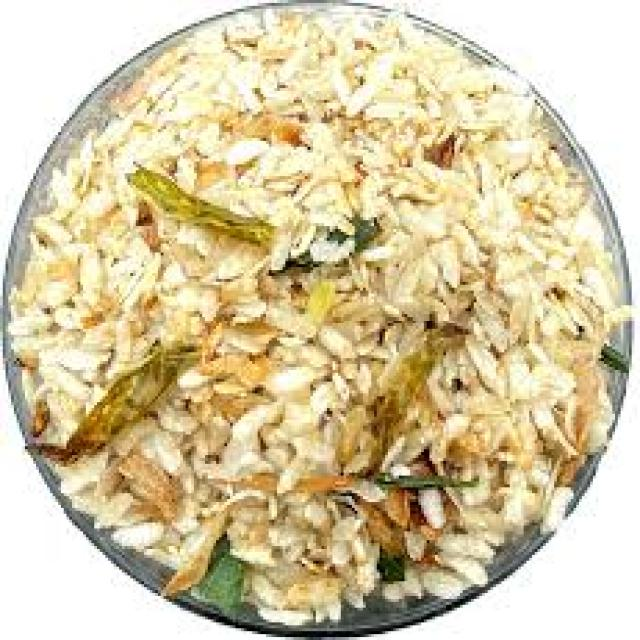POHA: (3, 3, 621, 619)
